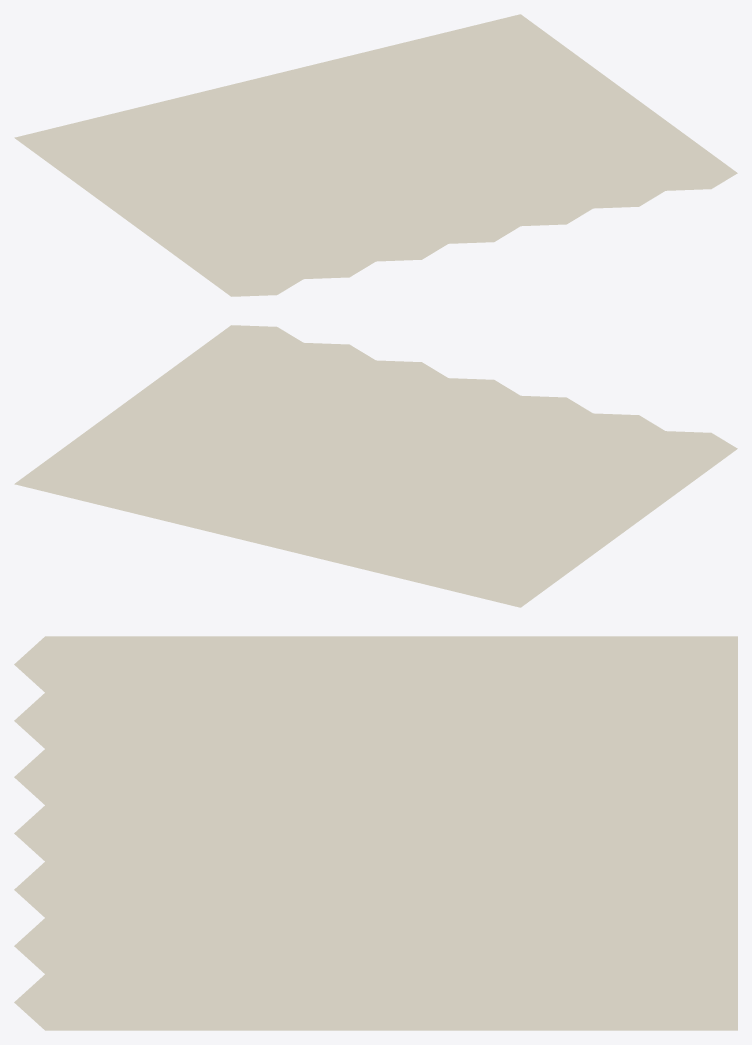
Rendered from animated_sterile_towel_crumple.glb.
3 renders of one model, top to bottom at view 1: azimuth 30°, elevation 25°; view 2: azimuth 150°, elevation 25°; view 3: azimuth 270°, elevation 25°, orthographic. The views are drawn at different scales.
Parts seen in each view (by area): view 1: Animated_Sterile_Towel_Crumple; view 2: Animated_Sterile_Towel_Crumple; view 3: Animated_Sterile_Towel_Crumple.
Part boxes in pixels (left/top/right/bottom): Animated_Sterile_Towel_Crumple: left=14, top=14, right=737, bottom=296; Animated_Sterile_Towel_Crumple: left=14, top=325, right=737, bottom=607; Animated_Sterile_Towel_Crumple: left=14, top=636, right=737, bottom=1030.
Bounding box in the file's own units: 0.42 × 0 × 0.326.
